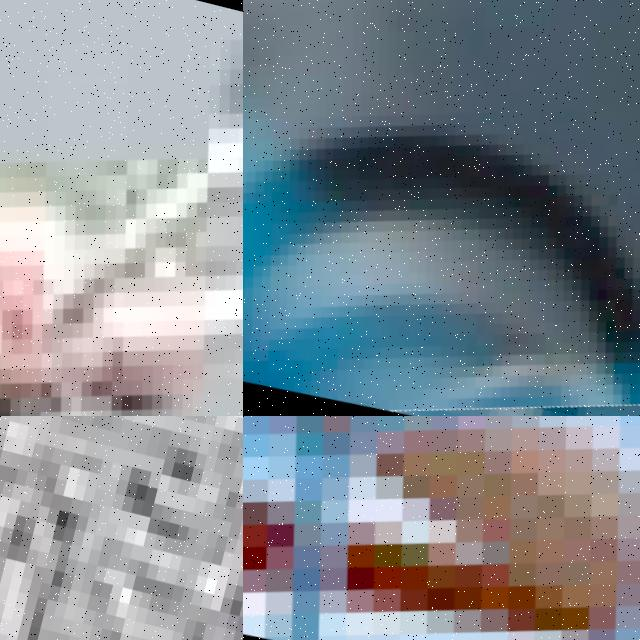0: (0, 0, 243, 416)
drone: (243, 0, 640, 416), (243, 416, 640, 640)
